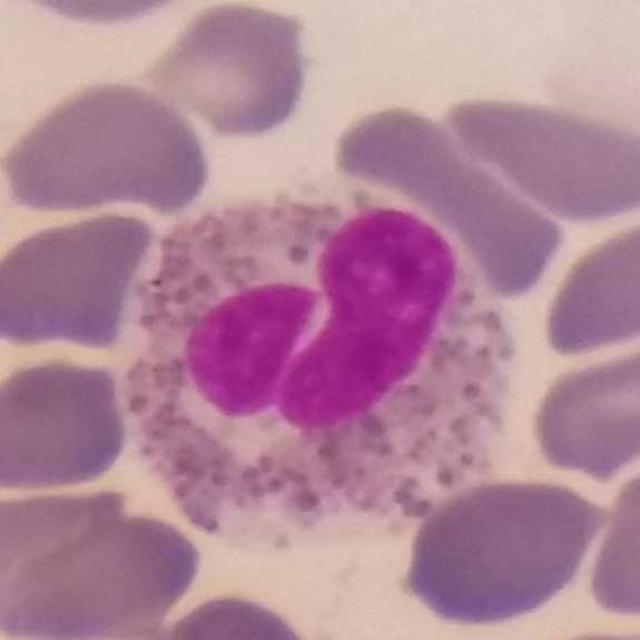Eosinophil: (128, 190, 519, 542)
RBC: (337, 100, 569, 304), (395, 472, 611, 633), (0, 76, 215, 219), (430, 82, 640, 228), (0, 494, 205, 640), (140, 0, 318, 142), (0, 206, 159, 355), (0, 352, 135, 496), (525, 335, 640, 482), (537, 208, 640, 364), (326, 100, 468, 204), (583, 451, 640, 624), (152, 586, 329, 640), (8, 606, 215, 640), (6, 0, 211, 32)
